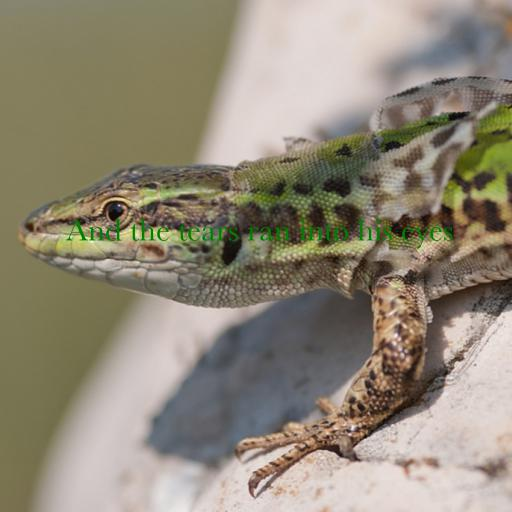Baskerville: (66, 218, 454, 249)
